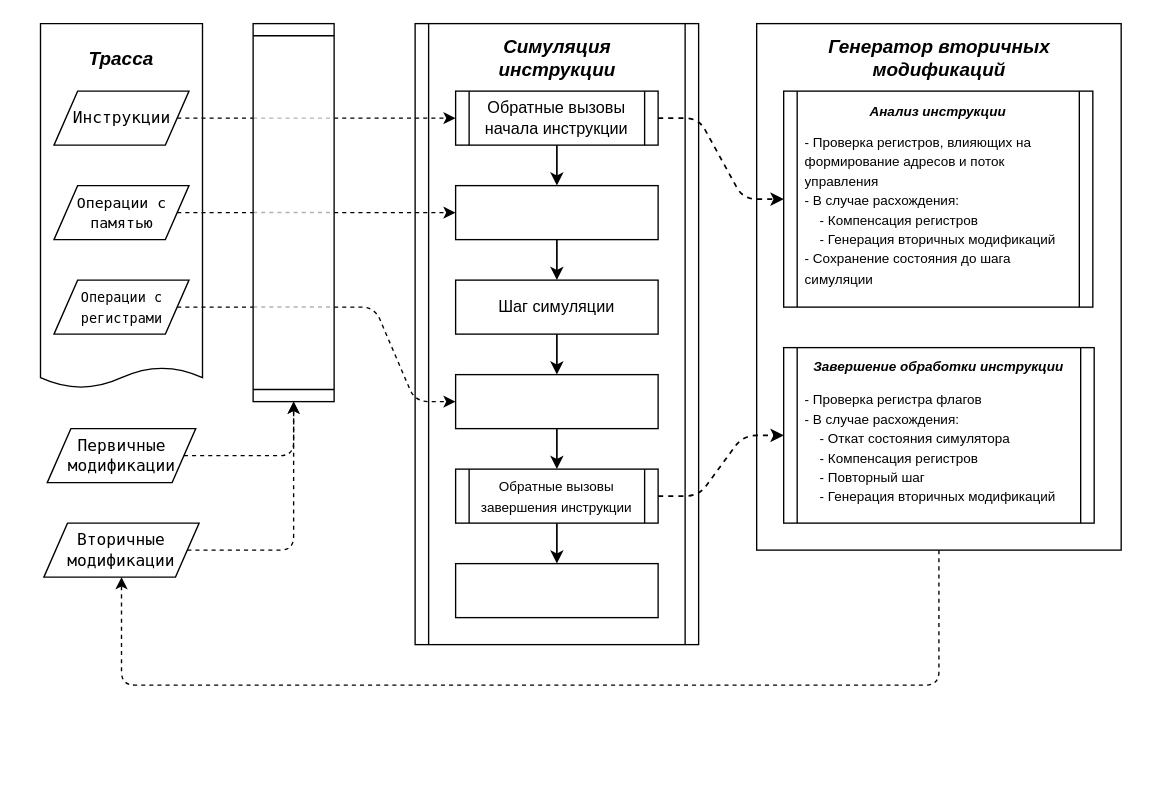
The diagram is 1157 pixels wide and 803 high, and some of its shapes have lost their labels. Here are the shapes that lost their labels. From the top down, the centre of each, then its label:
At point 293,212: "Преобразование".
At point 556,212: "Выделение и инициализация памяти симулятора".
At point 556,401: "Обновление значений регистров симулятора".
At point 556,590: "Верификация состояния симулятора".
